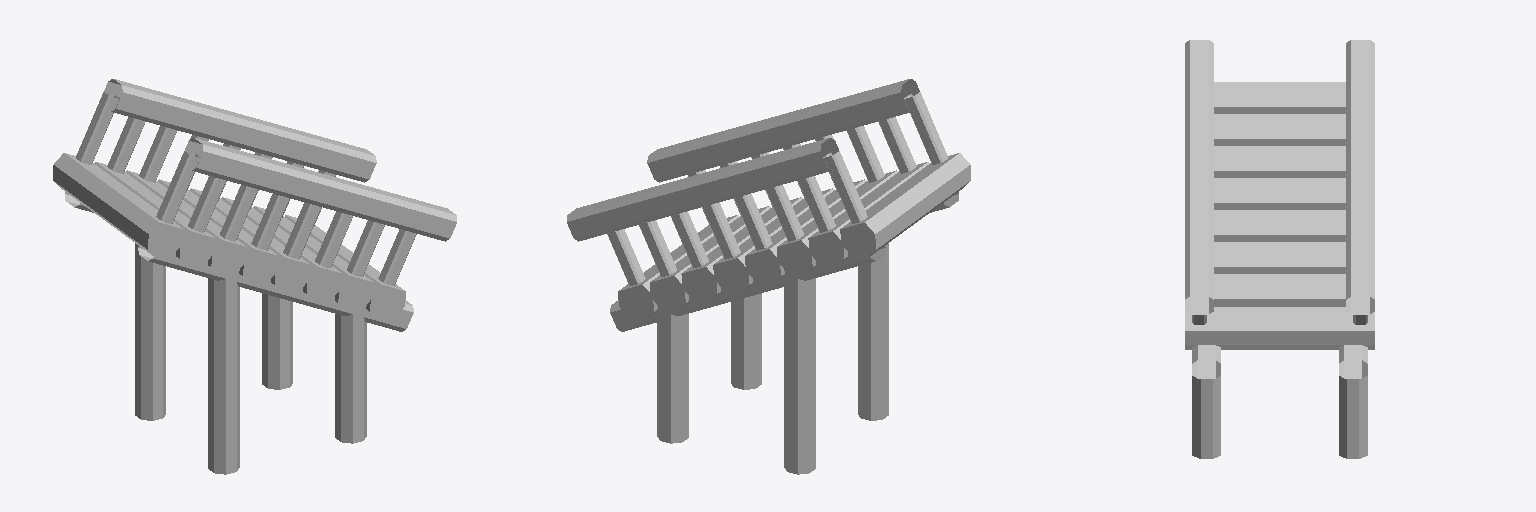
The model's file is Track_Bridge_Incline_Gentle_Supported.obj.
3 views of the same model, side by side, from view 1: azimuth 30°, elevation 25°; view 2: azimuth 150°, elevation 25°; view 3: azimuth 270°, elevation 25° (orthographic).
Parts seen in each view (by area): view 1: Bridge_Pier, Bridge_Rail, Bridge_Rail_Support, Log_Plank_End, Log_Plank_Bark, Log_Plank_Top, Bridge_Support_Beam; view 2: Bridge_Pier, Bridge_Rail, Bridge_Rail_Support, Log_Plank_End, Log_Plank_Bark, Log_Plank_Top, Bridge_Support_Beam; view 3: Log_Plank_Top, Bridge_Rail, Log_Plank_Bark, Bridge_Pier, Bridge_Support_Beam.
Boxes of the visible parts, x1=… form: Bridge_Pier: x1=135, y1=243, x2=366, y2=474; Bridge_Rail: x1=104, y1=79, x2=456, y2=241; Bridge_Rail_Support: x1=76, y1=91, x2=416, y2=285; Log_Plank_End: x1=148, y1=223, x2=405, y2=320; Log_Plank_Bark: x1=53, y1=153, x2=380, y2=319; Log_Plank_Top: x1=65, y1=153, x2=404, y2=290; Bridge_Support_Beam: x1=65, y1=192, x2=413, y2=331; Bridge_Pier: x1=657, y1=243, x2=888, y2=474; Bridge_Rail: x1=567, y1=79, x2=919, y2=241; Bridge_Rail_Support: x1=607, y1=91, x2=947, y2=285; Log_Plank_End: x1=618, y1=223, x2=875, y2=320; Log_Plank_Bark: x1=643, y1=153, x2=970, y2=319; Log_Plank_Top: x1=619, y1=153, x2=958, y2=290; Bridge_Support_Beam: x1=610, y1=192, x2=958, y2=331; Log_Plank_Top: x1=1185, y1=82, x2=1374, y2=330; Bridge_Rail: x1=1185, y1=40, x2=1374, y2=314; Log_Plank_Bark: x1=1185, y1=107, x2=1374, y2=349; Bridge_Pier: x1=1192, y1=376, x2=1367, y2=458; Bridge_Support_Beam: x1=1192, y1=345, x2=1367, y2=378.
Bounding box in the file's own units: 2.46 × 2.54 × 1.3.